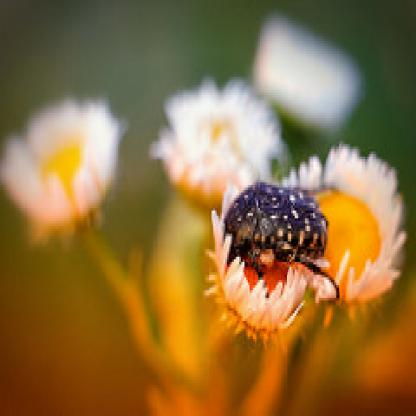ASTER: (176, 68, 415, 404)
